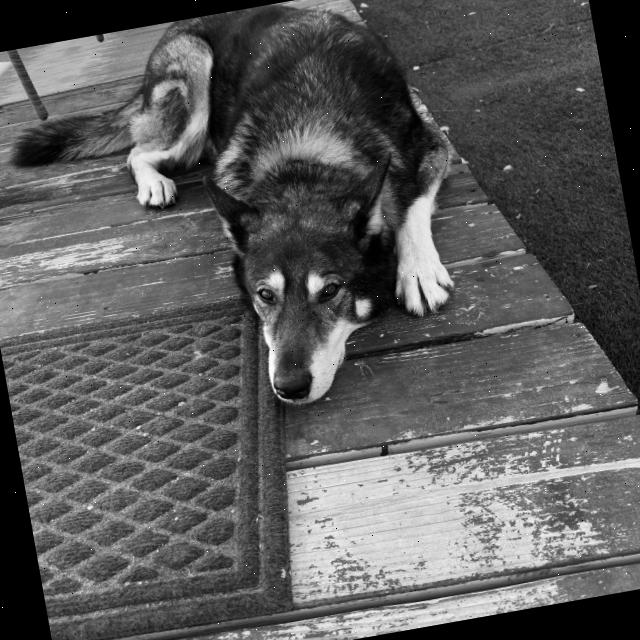siberian_husky_dog: (184, 142, 444, 422)
